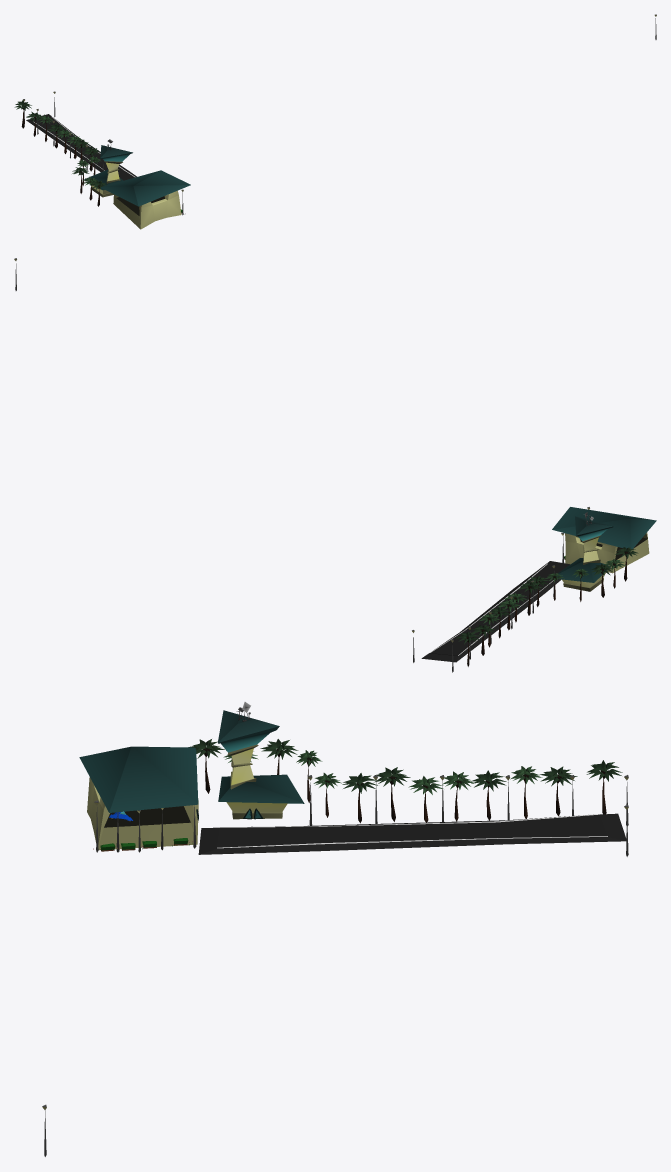
File: e_airport.fbx
The picture shows the model from 3 angles, top to bottom: view 1: azimuth 30°, elevation 25°; view 2: azimuth 150°, elevation 25°; view 3: azimuth 270°, elevation 25°; orthographic projection. The views are drawn at different scales.
Visible parts, largest first — view 1: e_airport; view 2: e_airport; view 3: e_airport.
Part boxes in pixels (x1,y1,x2,y2): e_airport: (14,14,656,229); e_airport: (14,258,656,672); e_airport: (42,702,628,1156).
Size of the model in its own units: 233 by 42.16 by 113.
